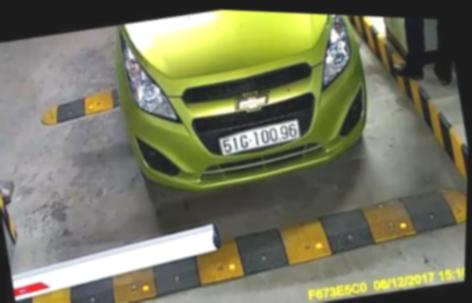License_Plate: (213, 120, 317, 165)
